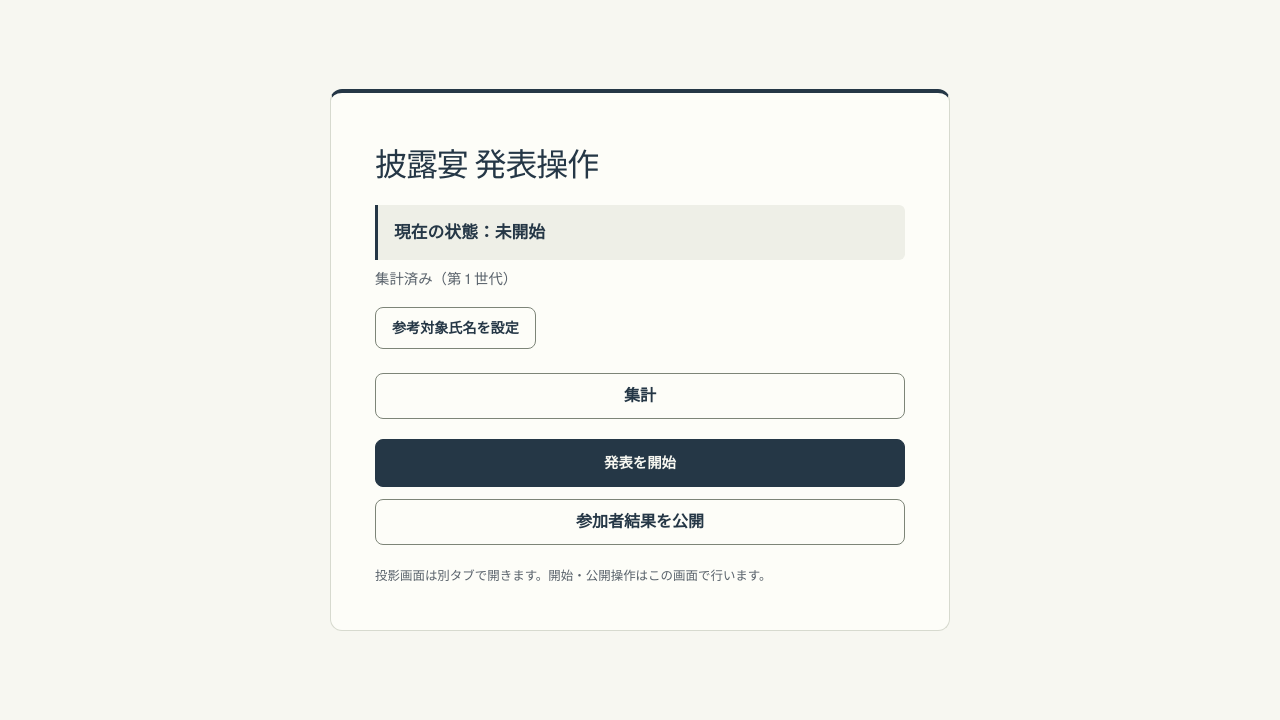
Test: presentation admin console › treats missing summary aggregate summaries as unavailable
This screenshot has width=1280, height=720.
Click the button "集計" at (640, 396), box [375,373,905,419]
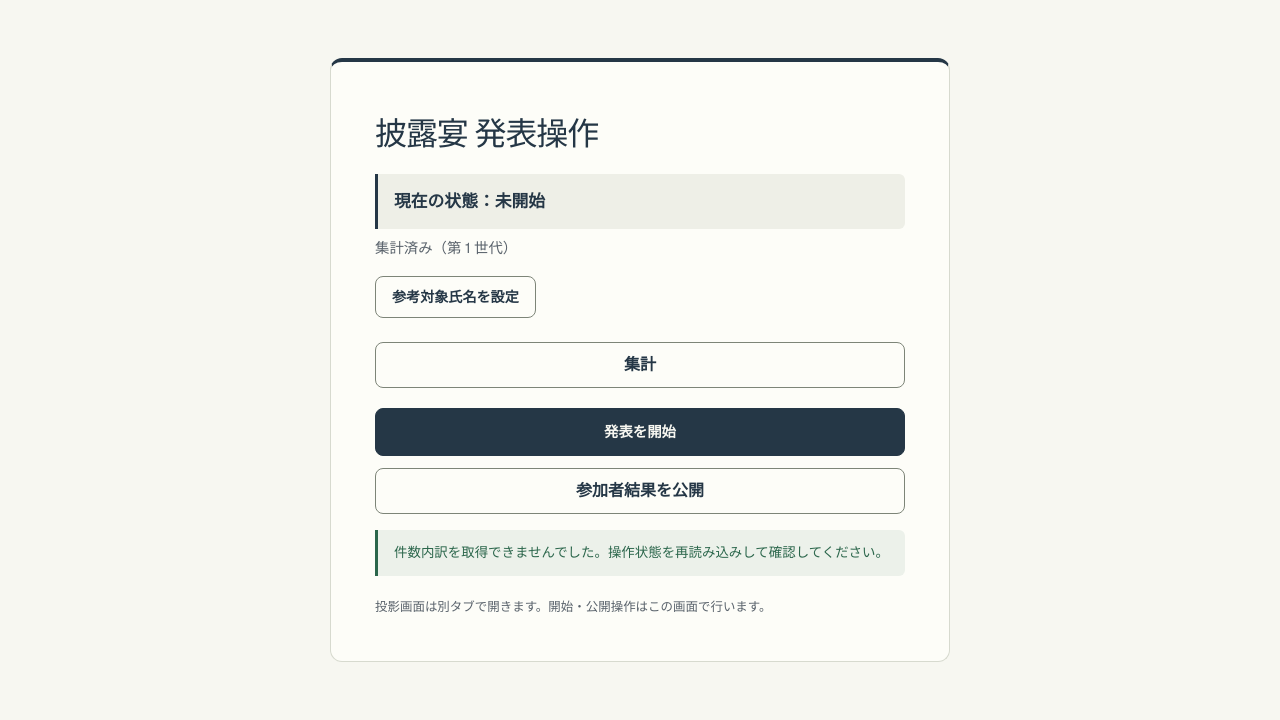
Expected: the text "件数内訳を取得できませんでした。操作状態を再読み込みして確認してください。" is shown, [394,542,889,564]
